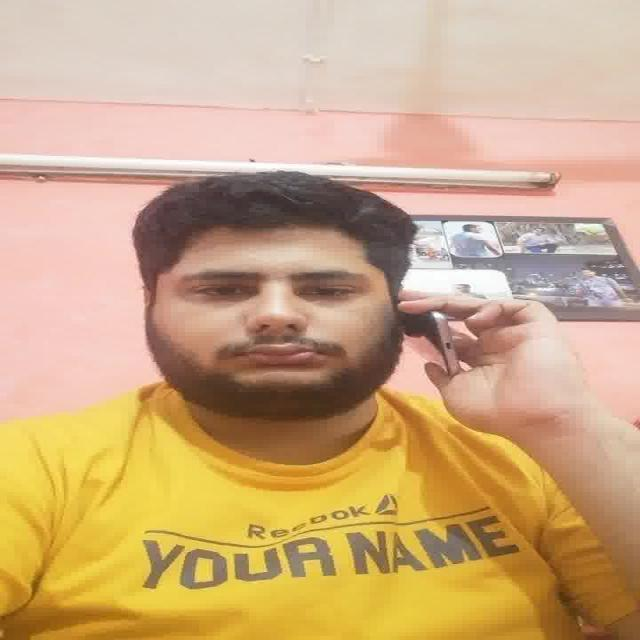Phone: (403, 309, 463, 381)
